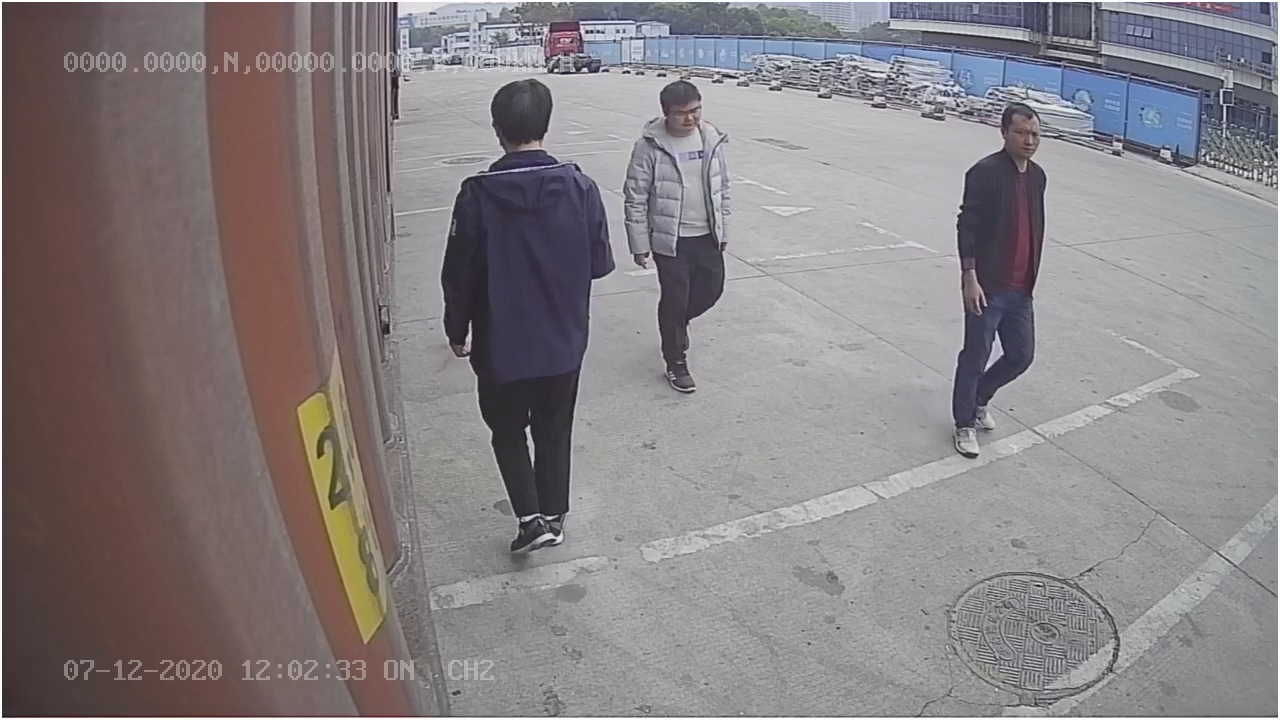person: (438, 73, 617, 555), (948, 97, 1058, 462)
